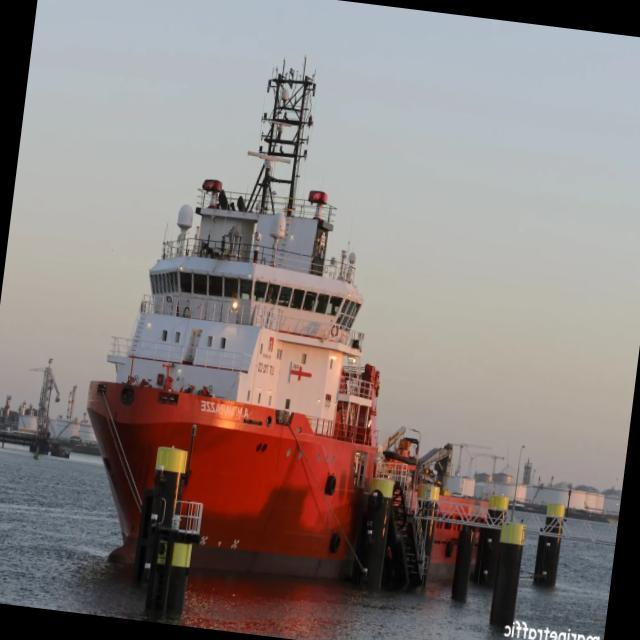Offshore: (87, 69, 488, 585)
